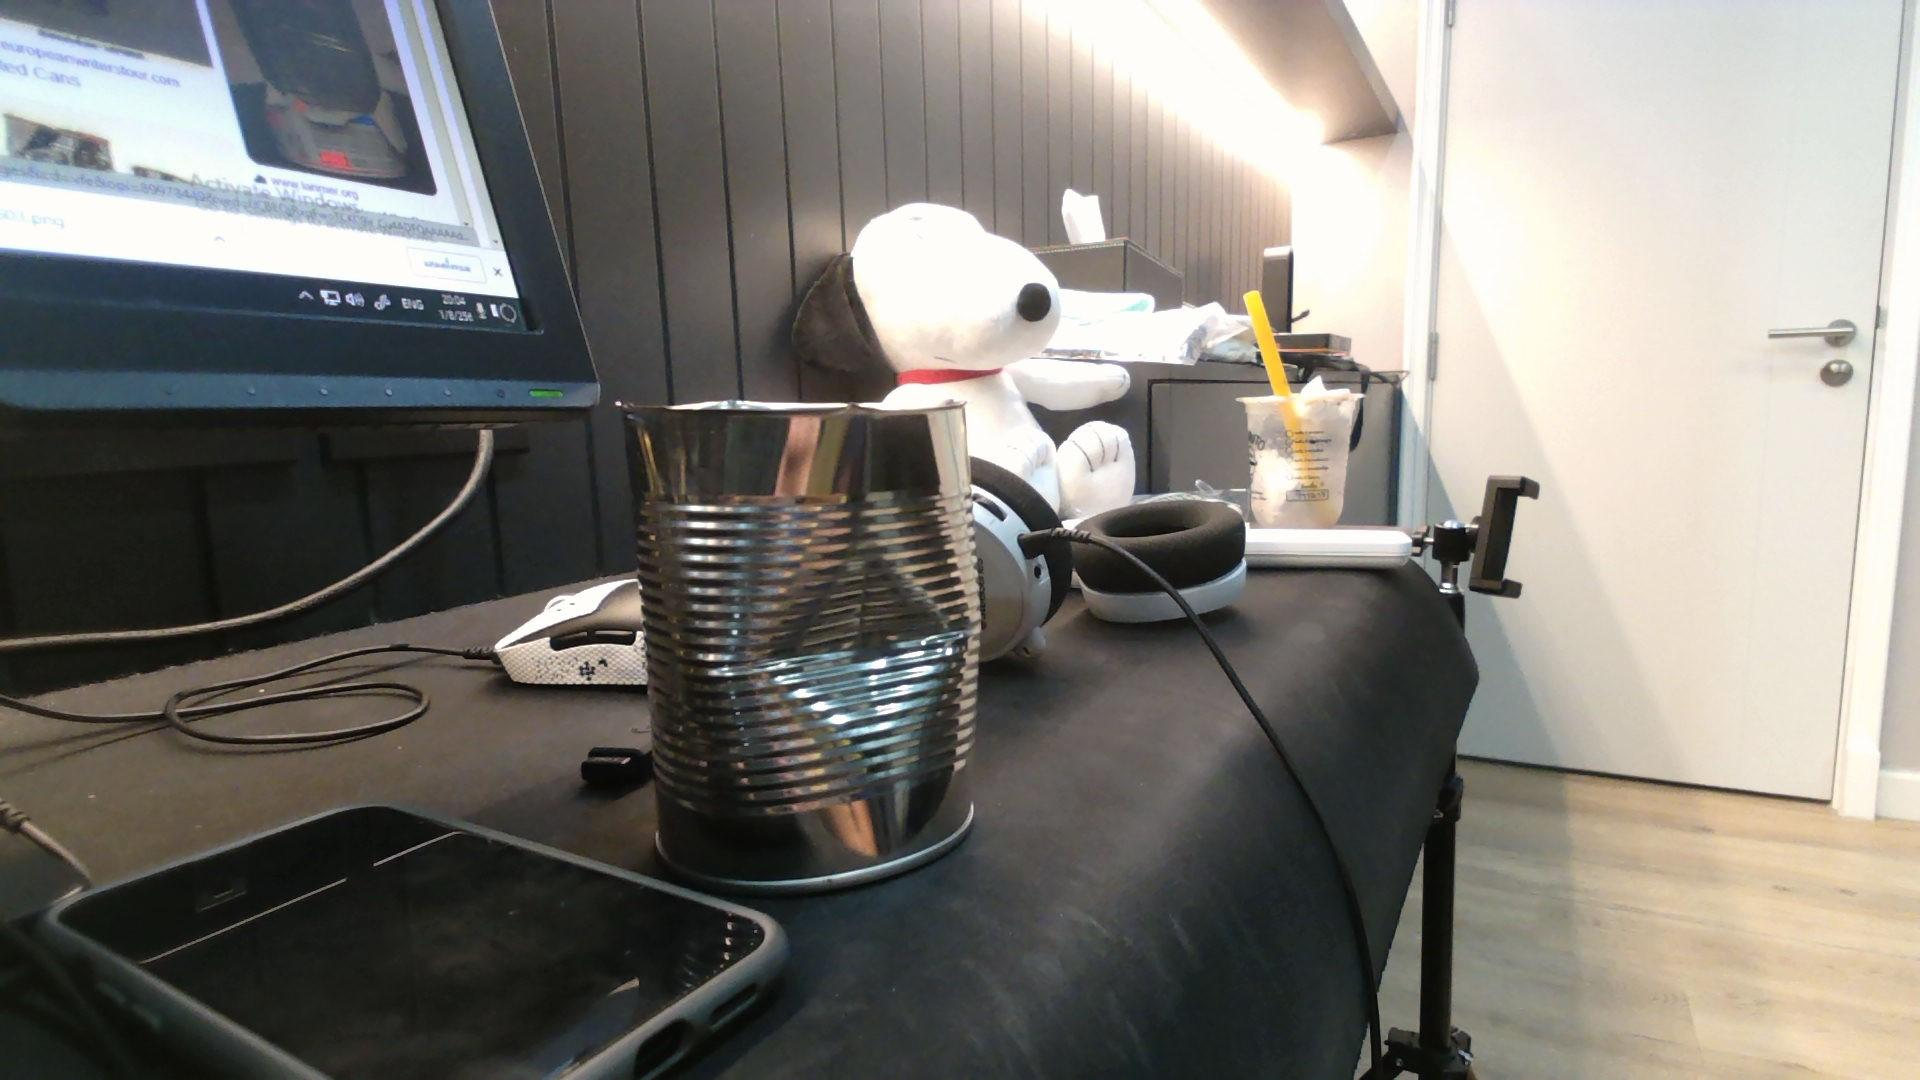metal: (630, 402, 980, 890)
